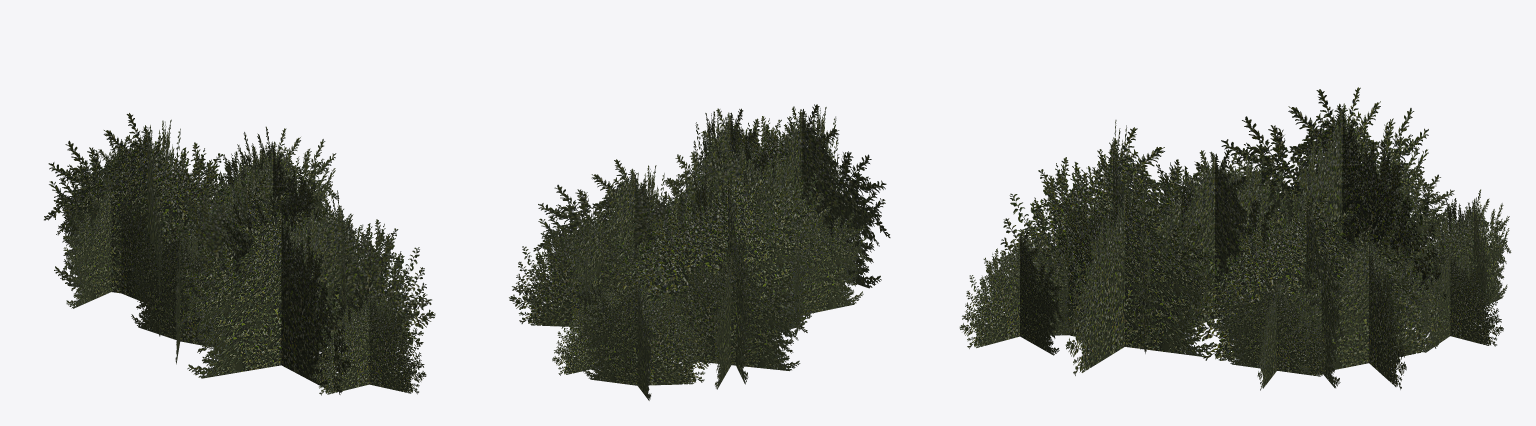
Rendered from Bush Large.obj.
The picture shows the model from 3 angles, left to right: view 1: azimuth 30°, elevation 25°; view 2: azimuth 150°, elevation 25°; view 3: azimuth 270°, elevation 25°; orthographic projection. The views are drawn at different scales.
Visible parts, largest first — view 1: Plane.006_Plane.007, Plane.003_Plane.004, Plane.005_Plane.006, Plane.008_Plane.009, Plane.009_Plane.010, Plane.010_Plane.011, Plane, Plane.004_Plane.005, Plane.011_Plane.012, Plane.007_Plane.008; view 2: Plane.003_Plane.004, Plane.006_Plane.007, Plane.007_Plane.008, Plane.010_Plane.011, Plane, Plane.011_Plane.012, Plane.009_Plane.010, Plane.004_Plane.005, Plane.005_Plane.006, Plane.001_Plane.002; view 3: Plane.005_Plane.006, Plane.003_Plane.004, Plane, Plane.011_Plane.012, Plane.004_Plane.005, Plane.006_Plane.007, Plane.008_Plane.009, Plane.002_Plane.003, Plane.001_Plane.002, Plane.007_Plane.008, Plane.010_Plane.011.
Part boxes in pixels (bbox=[...]): Plane.006_Plane.007: bbox=[177, 193, 351, 394]; Plane.003_Plane.004: bbox=[44, 113, 251, 336]; Plane.005_Plane.006: bbox=[260, 190, 435, 353]; Plane.008_Plane.009: bbox=[311, 281, 426, 395]; Plane.009_Plane.010: bbox=[125, 222, 240, 364]; Plane.010_Plane.011: bbox=[58, 172, 164, 308]; Plane: bbox=[195, 126, 339, 250]; Plane.004_Plane.005: bbox=[149, 165, 335, 323]; Plane.011_Plane.012: bbox=[205, 146, 322, 215]; Plane.007_Plane.008: bbox=[73, 136, 154, 207]; Plane.003_Plane.004: bbox=[594, 160, 827, 384]; Plane.006_Plane.007: bbox=[698, 104, 890, 288]; Plane.007_Plane.008: bbox=[576, 276, 714, 400]; Plane.010_Plane.011: bbox=[662, 250, 807, 389]; Plane: bbox=[533, 159, 696, 334]; Plane.011_Plane.012: bbox=[509, 205, 660, 326]; Plane.009_Plane.010: bbox=[756, 196, 869, 336]; Plane.004_Plane.005: bbox=[650, 131, 831, 304]; Plane.005_Plane.006: bbox=[664, 108, 792, 223]; Plane.001_Plane.002: bbox=[552, 280, 634, 383]; Plane.005_Plane.006: bbox=[1034, 174, 1224, 375]; Plane.003_Plane.004: bbox=[1221, 87, 1446, 332]; Plane: bbox=[1186, 190, 1423, 388]; Plane.011_Plane.012: bbox=[1291, 229, 1448, 389]; Plane.004_Plane.005: bbox=[1136, 149, 1289, 342]; Plane.006_Plane.007: bbox=[992, 120, 1209, 353]; Plane.008_Plane.009: bbox=[959, 226, 1077, 355]; Plane.002_Plane.003: bbox=[1218, 275, 1336, 390]; Plane.001_Plane.002: bbox=[1402, 242, 1503, 352]; Plane.007_Plane.008: bbox=[1415, 189, 1511, 321]; Plane.010_Plane.011: bbox=[1366, 154, 1454, 267].
Size of the model in its own units: 2.57 by 1.65 by 3.64.
